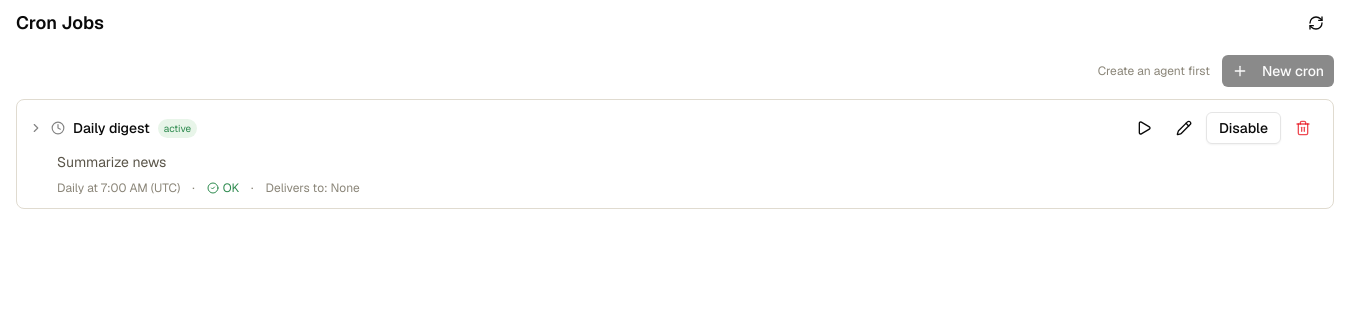
Test: CronPanel ViewState › transitions to runs state when a run row is clicked
This screenshot has width=1351, height=322.
Click the text "Daily digest" at [111, 128], box [73,118,150,138]
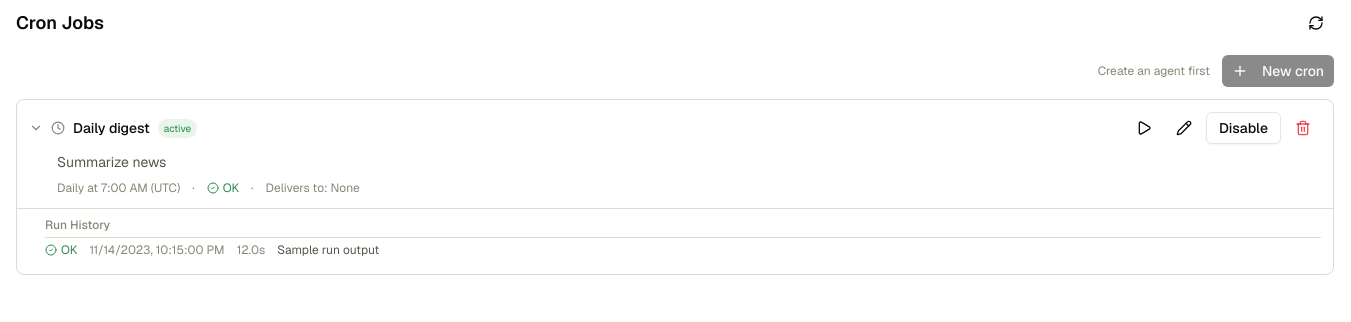
Click the button "Sample run output" at [157, 250], box [45,237,1321,262]
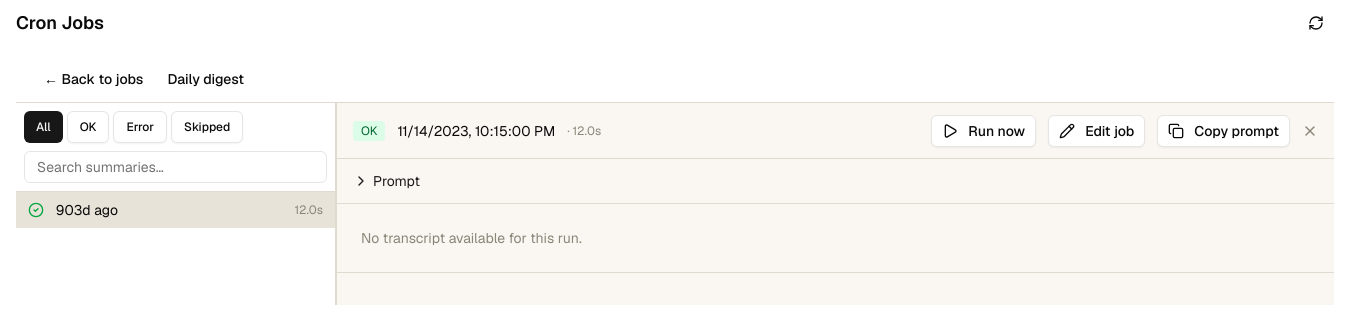
Now the button "← Back to jobs" is shown, box [32,62,155,94]
Now the button "New cron" is gone
